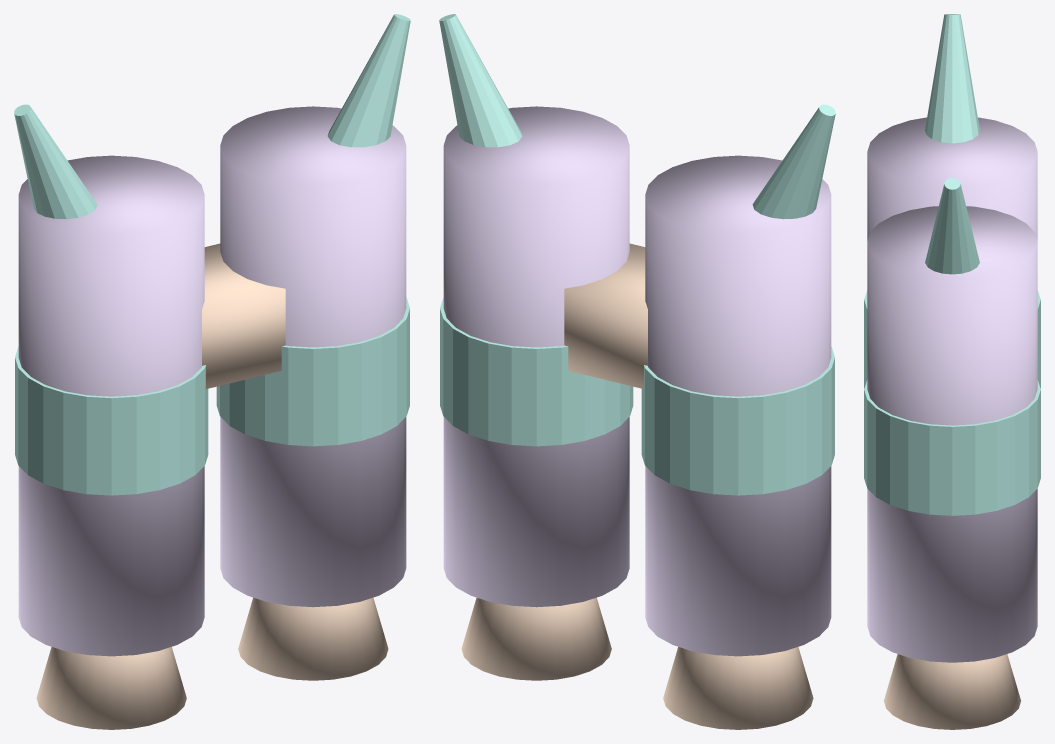
The model's file is Speed_Boost_Thruster_Pack.glb.
3 views of the same model, side by side, from view 1: azimuth 30°, elevation 25°; view 2: azimuth 150°, elevation 25°; view 3: azimuth 270°, elevation 25° (orthographic). The views are drawn at different scales.
Parts seen in each view (by area): view 1: GEO-speed_tank_-1, GEO-speed_tank_1, GEO-speed_band_-1, GEO-speed_band_1, GEO-speed_nozzle_-1, GEO-speed_nozzle_1, GEO-speed_manifold, GEO-speed_bunny_ear_1, GEO-speed_bunny_ear_-1; view 2: GEO-speed_tank_-1, GEO-speed_tank_1, GEO-speed_band_-1, GEO-speed_band_1, GEO-speed_nozzle_-1, GEO-speed_nozzle_1, GEO-speed_manifold, GEO-speed_bunny_ear_1, GEO-speed_bunny_ear_-1; view 3: GEO-speed_tank_1, GEO-speed_band_1, GEO-speed_tank_-1, GEO-speed_nozzle_1, GEO-speed_bunny_ear_-1, GEO-speed_bunny_ear_1, GEO-speed_band_-1.
Part boxes in pixels (x1,y1,x2,y2): GEO-speed_tank_-1: [18, 155, 204, 656]; GEO-speed_tank_1: [220, 106, 406, 607]; GEO-speed_band_-1: [15, 347, 208, 495]; GEO-speed_band_1: [216, 297, 409, 446]; GEO-speed_nozzle_-1: [36, 647, 186, 729]; GEO-speed_nozzle_1: [238, 597, 388, 680]; GEO-speed_manifold: [202, 243, 285, 388]; GEO-speed_bunny_ear_1: [327, 14, 410, 147]; GEO-speed_bunny_ear_-1: [14, 104, 97, 219]; GEO-speed_tank_-1: [645, 155, 831, 656]; GEO-speed_tank_1: [443, 106, 629, 607]; GEO-speed_band_-1: [641, 347, 834, 495]; GEO-speed_band_1: [440, 297, 633, 446]; GEO-speed_nozzle_-1: [663, 647, 813, 729]; GEO-speed_nozzle_1: [461, 597, 611, 680]; GEO-speed_manifold: [564, 243, 647, 388]; GEO-speed_bunny_ear_1: [439, 14, 522, 147]; GEO-speed_bunny_ear_-1: [752, 104, 835, 219]; GEO-speed_tank_1: [867, 206, 1037, 662]; GEO-speed_band_1: [864, 380, 1040, 515]; GEO-speed_tank_-1: [867, 117, 1037, 240]; GEO-speed_nozzle_1: [884, 654, 1020, 729]; GEO-speed_bunny_ear_-1: [925, 14, 979, 143]; GEO-speed_bunny_ear_1: [925, 178, 979, 274]; GEO-speed_band_-1: [864, 290, 1040, 388].
Size of the model in its own units: 0.2542 by 0.3775 by 0.108.
